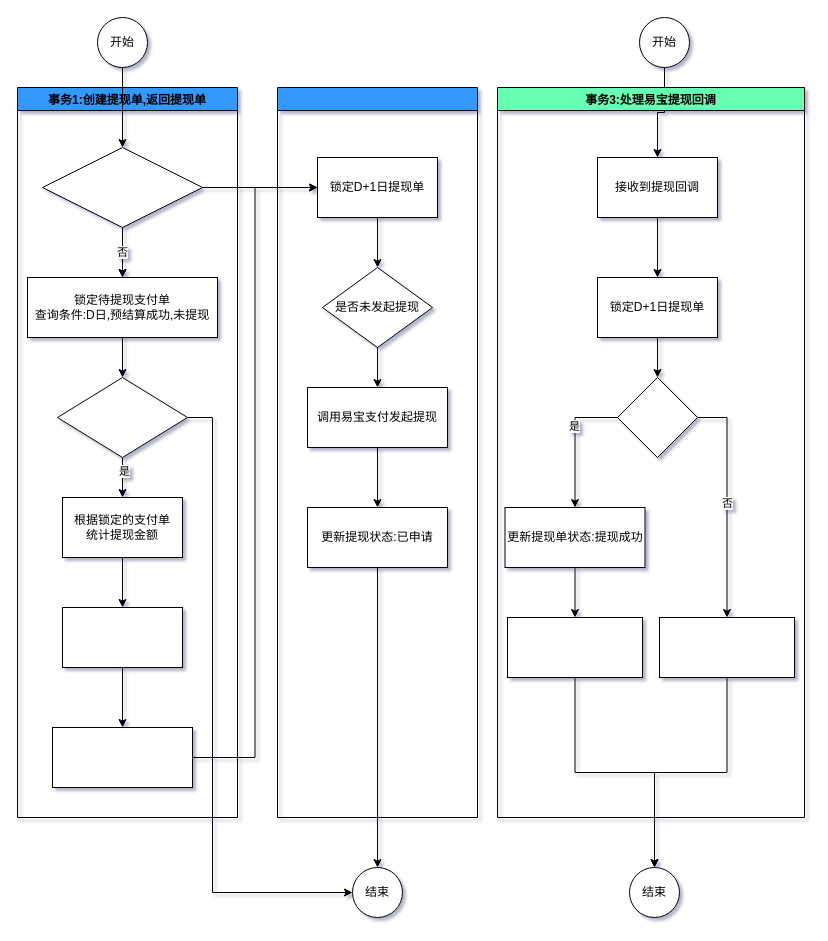
Some shapes in this 828 by 941 pixel diagram are drawn without their labels. Each missing label, with the centre of its shape:
事务2:发起提现: the point at 377,452
企业微信通知提现失败: the point at 726,647
企业微信通知提现成功: the point at 574,647
创建提现单: the point at 122,637
提现是否成功: the point at 657,417
是否已存在D+1日提现单: the point at 122,187
是否有可提现支付单: the point at 122,417
更新支付单所关联提现单: the point at 122,757
